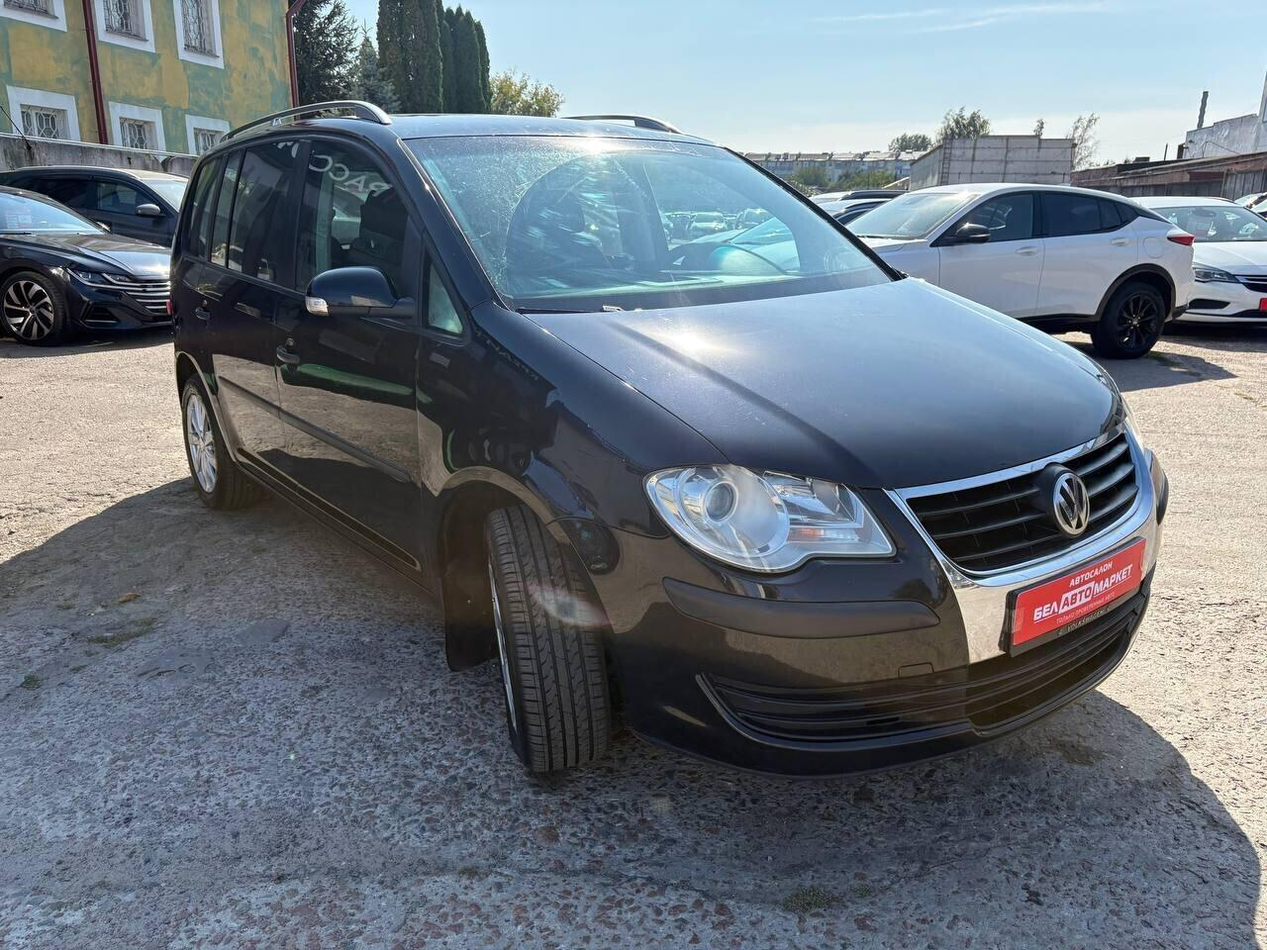Touran_2006-2010: (160, 103, 1173, 784)
